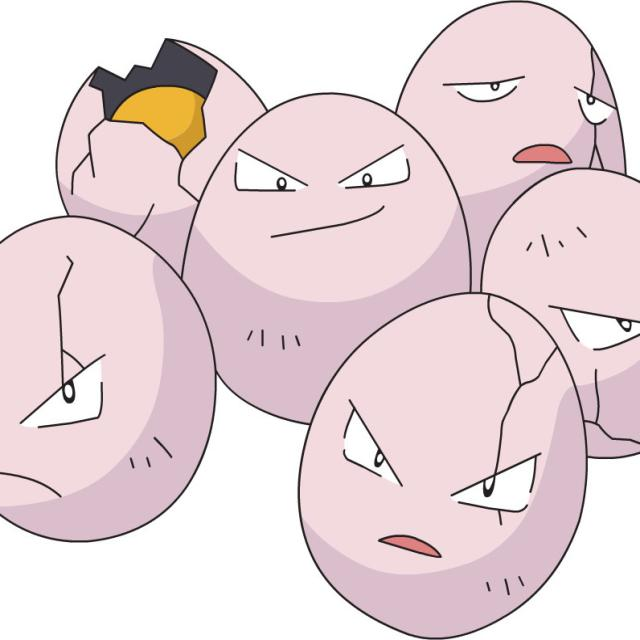Exeggcute: (3, 9, 640, 633)
